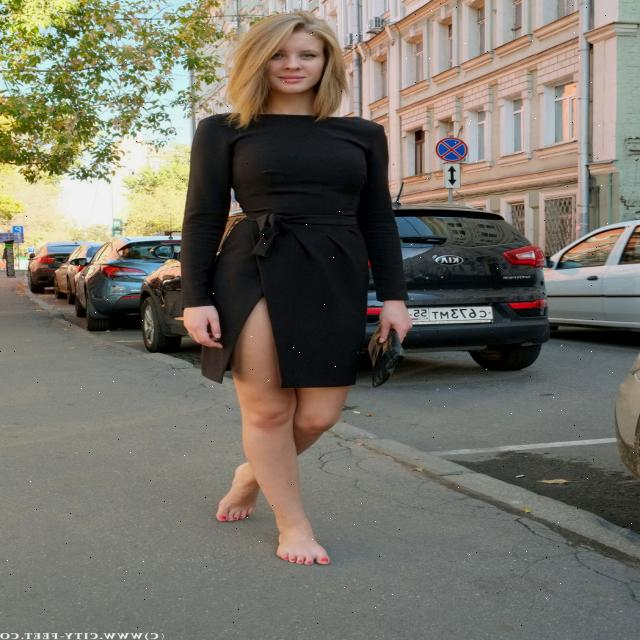No Safety Boots: (216, 462, 260, 522), (276, 524, 330, 564)
